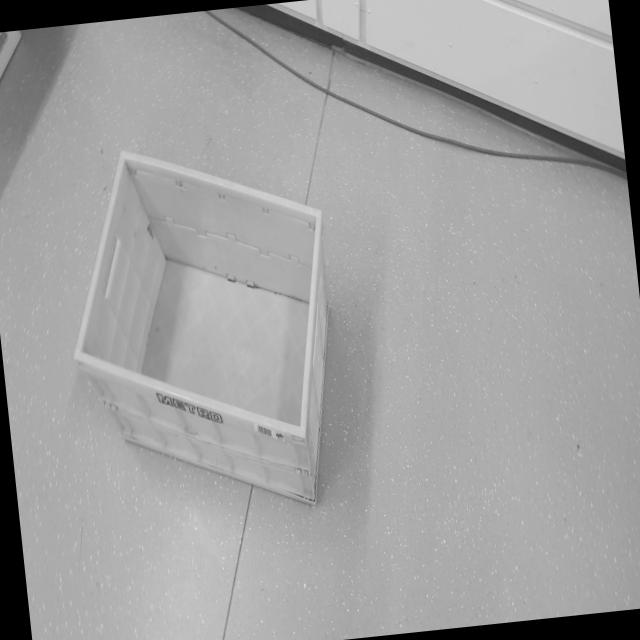box: (50, 121, 357, 548)
